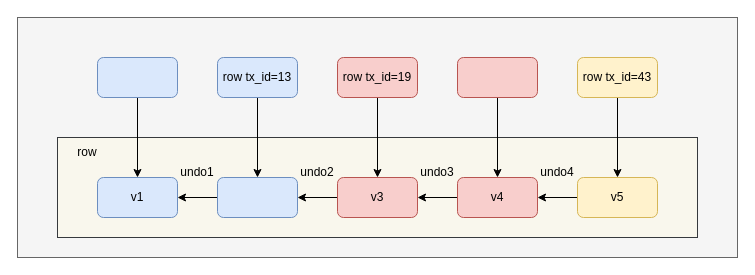
This 755x275 diagram has some shape labels left out. Here are the shapes that lost their labels. From the top down, the centre of each, then its label:
point 137,77: row tx_id=10
point 497,77: row tx_id=39
point 257,197: v2
